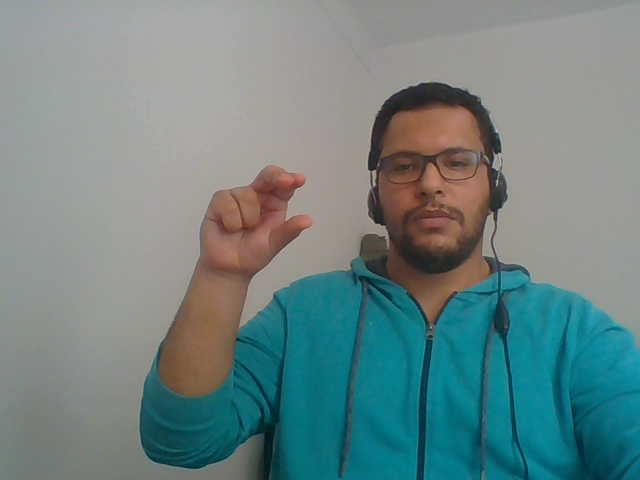no: (184, 151, 327, 294)
